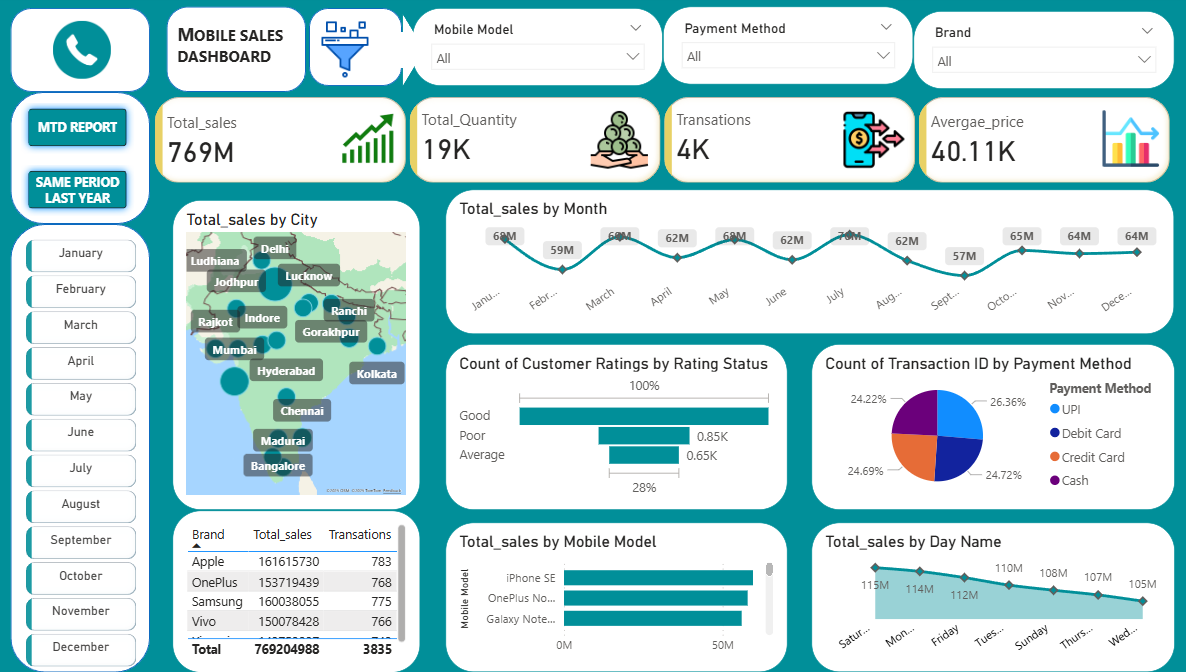

What the dashboard file says about the page in this screenshot:
{"tool":"powerbi","page":{"name":"DASHBOARD","canvas":[1280,720],"ordinal":0},"visuals":[{"type":"shape","box":[20.7,15.9,147.9,89.1],"z":0},{"type":"image","box":[60.4,22.3,71.6,76.3],"z":1000},{"type":"shape","box":[20.7,105,147.9,140],"z":2000},{"type":"shape","box":[20.7,245,147.9,475.6],"z":3000},{"type":"advancedSlicerVisual","fields":{"Values":["Calendar.Date.Variation.Date Hierarchy.Month"]},"box":[31.8,256.1,127.2,464.5],"z":4000},{"type":"cardVisual","fields":{"Data":["Sales_data.Total_sales","Sales_data.Total_Quantity","Sales_data.Transations","Sales_data.Avergae_price"]},"box":[168.6,105,1086.4,101.8],"z":5000},{"type":"slicer","fields":{"Values":["Sales_data.Mobile Model"]},"box":[447,15.9,265.6,82.7],"z":6000},{"type":"slicer","fields":{"Values":["Sales_data.Payment Method"]},"box":[712.6,14.3,265.6,82.7],"z":7000},{"type":"slicer","fields":{"Values":["Sales_data.Brand"]},"box":[978.2,19.1,276.8,82.7],"z":8000},{"type":"shape","box":[337.2,15.9,98.6,82.7],"z":9000},{"type":"image","box":[334,23.9,82.7,71.6],"z":10000},{"type":"shape","box":[413.6,22.3,46.1,76.3],"z":11000},{"type":"shape","box":[186.1,14.3,147.9,90.7],"z":12000},{"type":"textbox","box":[192.5,25.4,136.8,66.8],"z":13000},{"type":"azureMap","fields":{"Category":["Sales_data.City"],"Size":["Sales_data.Total_sales"]},"box":[192.8,219.2,262.7,328.8],"z":14000},{"type":"lineChart","fields":{"Category":["Calendar.Date.Variation.Date Hierarchy.Month"],"Y":["Sales_data.Total_sales"]},"box":[481.9,207.9,772.9,153.1],"z":15000},{"type":"funnel","fields":{"Y":["CountNonNull(Sales_data.Customer Ratings)"],"Category":["Sales_data.Rating Status"]},"box":[481.9,372.3,362.8,175.7],"z":16000},{"type":"pieChart","fields":{"Category":["Sales_data.Payment Method"],"Y":["CountNonNull(Sales_data.Transaction ID)"]},"box":[869.3,372.3,385.5,175.7],"z":17000},{"type":"clusteredBarChart","fields":{"Category":["Sales_data.Mobile Model"],"Y":["Sales_data.Total_sales"]},"box":[481.9,561.3,362.8,158.7],"z":18000},{"type":"areaChart","fields":{"Category":["Calendar.Day Name"],"Y":["Sales_data.Total_sales"]},"box":[869.3,561.3,385.5,158.7],"z":19000},{"type":"tableEx","fields":{"Values":["Sales_data.Brand","Sales_data.Total_sales","Sales_data.Transations"]},"box":[192.8,548,262.7,172],"z":20000},{"type":"pageNavigator","box":[31.8,114.5,120.9,122.5],"z":21000}]}

Visuals, with their boxes in screenshot pixels (x1, y1, x2, y2), scaled from the page's 1280x720 canvas onto the 1186x672 screenshot:
shape: box=[19, 15, 156, 98]
image: box=[56, 21, 122, 92]
shape: box=[19, 98, 156, 229]
shape: box=[19, 229, 156, 671]
advancedSlicerVisual - Calendar.Date.Variation.Date Hierarchy.Month: box=[29, 239, 147, 671]
cardVisual - Sales_data.Total_sales x Sales_data.Total_Quantity: box=[156, 98, 1163, 193]
slicer - Sales_data.Mobile Model: box=[414, 15, 660, 92]
slicer - Sales_data.Payment Method: box=[660, 13, 906, 91]
slicer - Sales_data.Brand: box=[906, 18, 1163, 95]
shape: box=[312, 15, 404, 92]
image: box=[309, 22, 386, 89]
shape: box=[383, 21, 426, 92]
shape: box=[172, 13, 309, 98]
textbox: box=[178, 24, 305, 86]
azureMap - Sales_data.City x Sales_data.Total_sales: box=[179, 205, 422, 511]
lineChart - Calendar.Date.Variation.Date Hierarchy.Month x Sales_data.Total_sales: box=[447, 194, 1163, 337]
funnel - CountNonNull(Sales_data.Customer Ratings) x Sales_data.Rating Status: box=[447, 347, 783, 511]
pieChart - Sales_data.Payment Method x CountNonNull(Sales_data.Transaction ID): box=[805, 347, 1163, 511]
clusteredBarChart - Sales_data.Mobile Model x Sales_data.Total_sales: box=[447, 524, 783, 671]
areaChart - Calendar.Day Name x Sales_data.Total_sales: box=[805, 524, 1163, 671]
tableEx - Sales_data.Brand x Sales_data.Total_sales: box=[179, 511, 422, 671]
pageNavigator: box=[29, 107, 141, 221]
